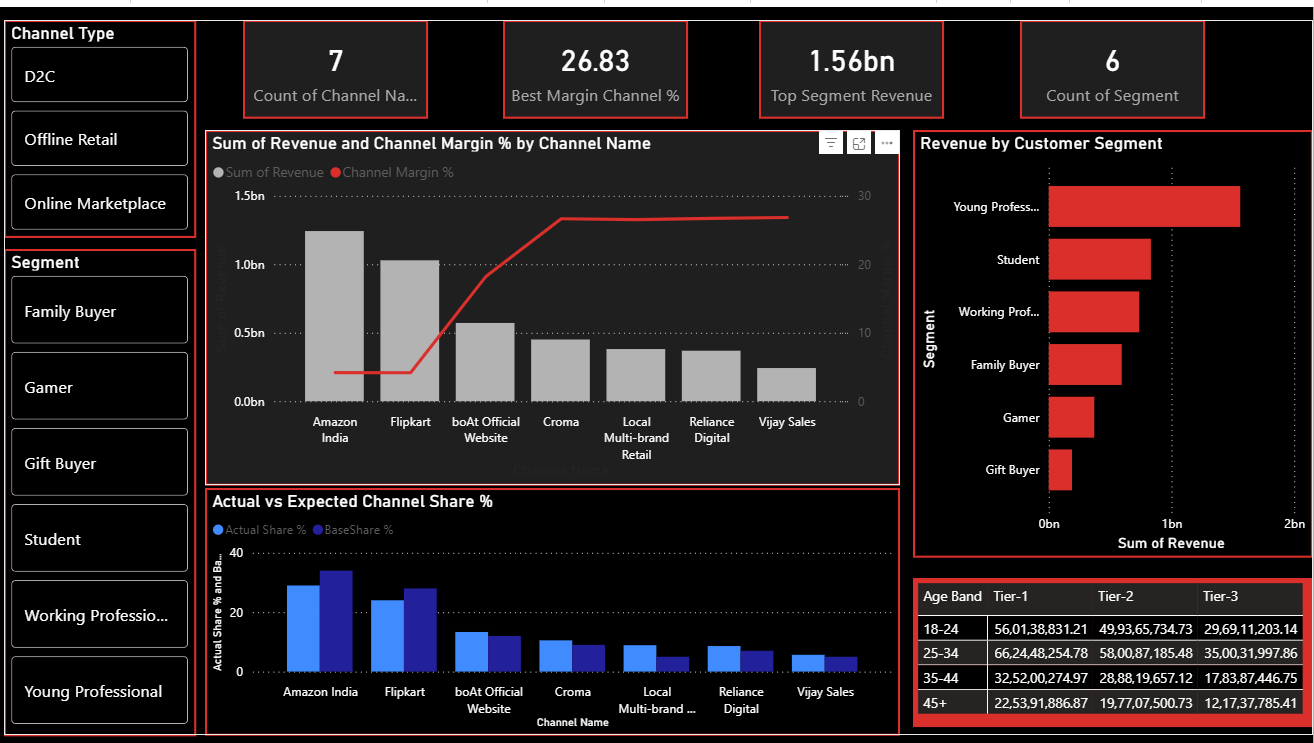

The page's visual inventory and layout, read from the dashboard file:
{"tool":"powerbi","page":{"name":"Channel & Customer Insights","canvas":[1280,720],"ordinal":3},"visuals":[{"type":"group","id":"g1","title":"Group 1","box":[7.1,12.2,1272.9,696.3],"z":0},{"type":"card","fields":{"Values":["Count(ChannelPerformance.Channel Name)"]},"box":[239.6,12.2,180,96],"z":0,"group":"g1"},{"type":"card","fields":{"Values":["ChannelPerformance.Best Margin Channel %"]},"box":[492.3,12.2,180,96],"z":1000,"group":"g1"},{"type":"card","fields":{"Values":["CustomerSegments.Top Segment Revenue"]},"box":[741,12.2,180,96],"z":2000,"group":"g1"},{"type":"card","fields":{"Values":["Count(CustomerSegments.Segment)"]},"box":[995.8,12.2,180,96],"z":3000,"group":"g1"},{"type":"lineClusteredColumnComboChart","fields":{"Category":["ChannelPerformance.Channel Name"],"Y":["Sum(ChannelPerformance.Revenue)"],"Y2":["ChannelPerformance.Channel Margin %"]},"box":[203,118.8,676,346.1],"z":4000,"group":"g1"},{"type":"clusteredColumnChart","title":"Actual vs Expected Channel Share %","fields":{"Category":["ChannelPerformance.Channel Name"],"Y":["ChannelPerformance.Actual Share %","ChannelPerformance.BaseShare %"]},"box":[202.9,467.8,676,240.6],"z":5000,"group":"g1"},{"type":"clusteredBarChart","title":"Revenue by Customer Segment","fields":{"Category":["CustomerSegments.Segment"],"Y":["Sum(CustomerSegments.Revenue)"]},"box":[891.2,118.8,388.8,416.2],"z":6000,"group":"g1"},{"type":"pivotTable","title":"Revenue by Age Band & Tier","fields":{"Rows":["CustomerSegments.Age Band"],"Columns":["CustomerSegments.Tier"],"Values":["Sum(CustomerSegments.Revenue)"]},"box":[891.2,555.3,388.8,145.2],"z":7000,"group":"g1"},{"type":"advancedSlicerVisual","fields":{"Values":["ChannelPerformance.Channel Type"]},"box":[7.1,12.2,186.8,212.1],"z":8000,"group":"g1"},{"type":"advancedSlicerVisual","fields":{"Values":["CustomerSegments.Segment"]},"box":[7.1,234.5,186.8,474],"z":9000,"group":"g1"}]}

Visuals, with their boxes in screenshot pixels (x1, y1, x2, y2), scaled from the page's 1280x720 canvas onto the 1314x743 screenshot:
"Group 1" group: [7,13,1313,731]
card - Count(ChannelPerformance.Channel Name): [246,13,431,112]
card - ChannelPerformance.Best Margin Channel %: [505,13,690,112]
card - CustomerSegments.Top Segment Revenue: [761,13,945,112]
card - Count(CustomerSegments.Segment): [1022,13,1207,112]
lineClusteredColumnComboChart - ChannelPerformance.Channel Name x Sum(ChannelPerformance.Revenue): [208,123,902,480]
"Actual vs Expected Channel Share %" clusteredColumnChart: [208,483,902,731]
"Revenue by Customer Segment" clusteredBarChart: [915,123,1313,552]
"Revenue by Age Band & Tier" pivotTable: [915,573,1313,723]
advancedSlicerVisual - ChannelPerformance.Channel Type: [7,13,199,231]
advancedSlicerVisual - CustomerSegments.Segment: [7,242,199,731]
